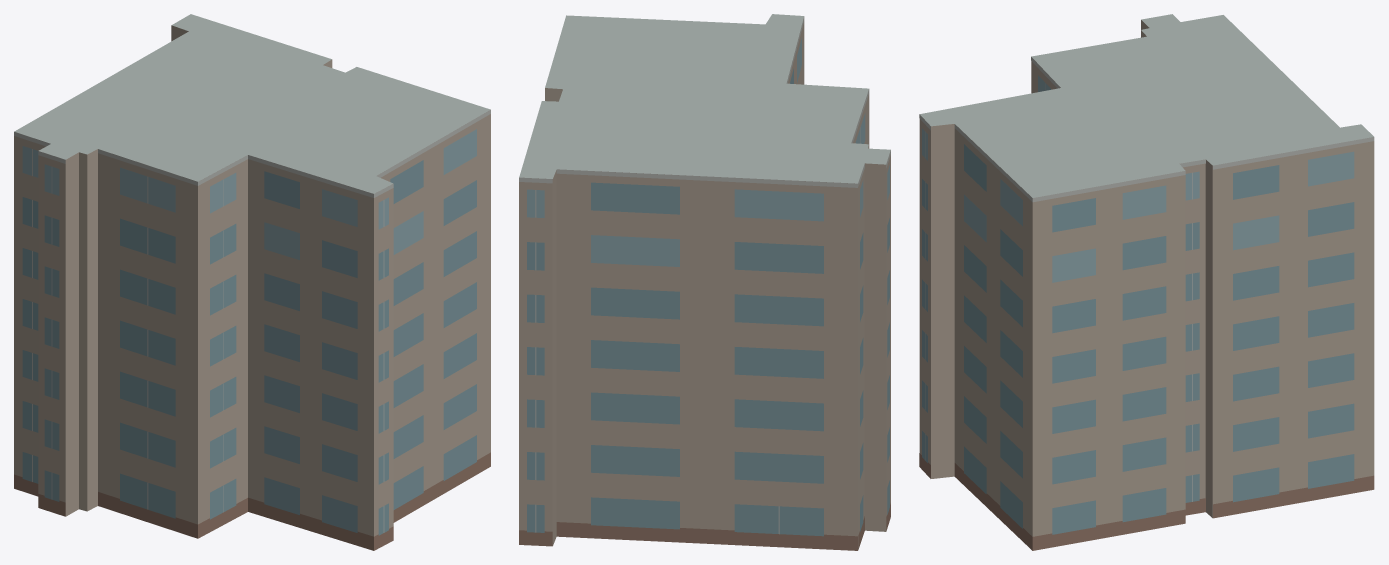
File: survey-upis-33045491.glb
The picture shows the model from 3 angles, left to right: view 1: azimuth 30°, elevation 25°; view 2: azimuth 150°, elevation 25°; view 3: azimuth 270°, elevation 25°; orthographic projection. The views are drawn at different scales.
Parts seen in each view (by area): view 1: survey-upis-33045491.tmp; view 2: survey-upis-33045491.tmp; view 3: survey-upis-33045491.tmp.
Boxes of the visible parts, <box> form: survey-upis-33045491.tmp: <box>14,14,490,550</box>; survey-upis-33045491.tmp: <box>519,14,890,550</box>; survey-upis-33045491.tmp: <box>919,14,1374,550</box>.
Bounding box in the file's own units: 23.07 × 20.6 × 24.08.
